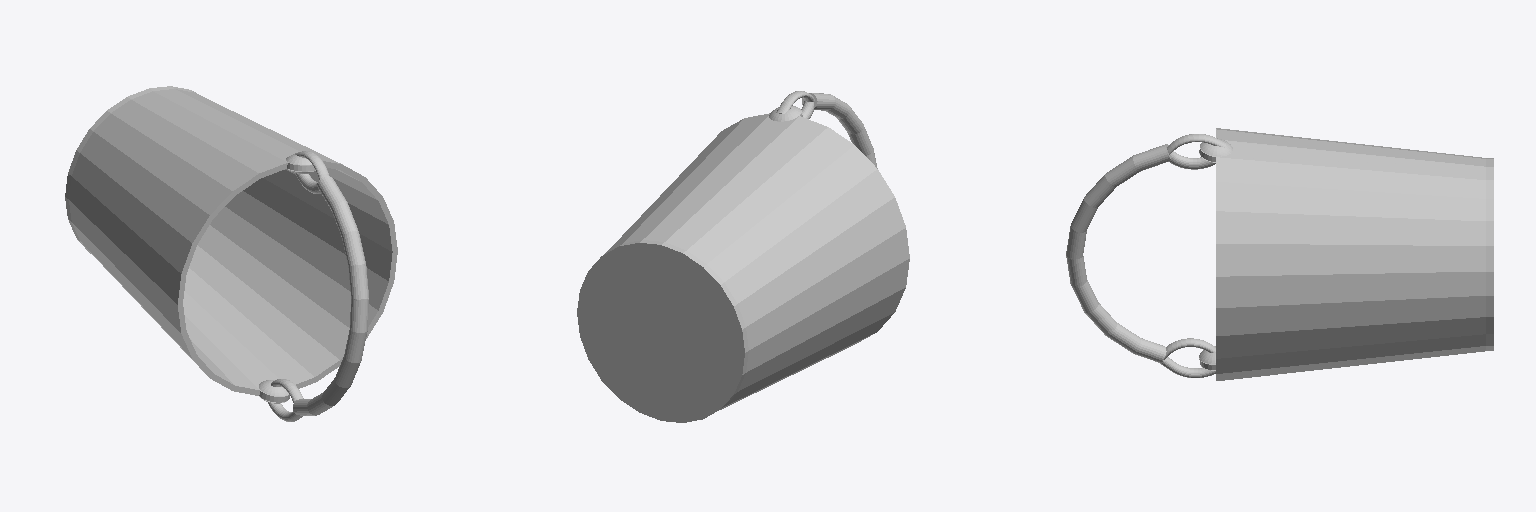
The model's file is bucket.obj.
3 views of the same model, side by side, from view 1: azimuth 30°, elevation 25°; view 2: azimuth 150°, elevation 25°; view 3: azimuth 270°, elevation 25° (orthographic).
Visible parts, largest first — view 1: Bucket; view 2: Bucket; view 3: Bucket.
Boxes of the visible parts, <box> form: Bucket: <box>65,86,397,421</box>; Bucket: <box>577,91,909,422</box>; Bucket: <box>1066,128,1493,380</box>.
Size of the model in its own units: 338 by 377 by 568.